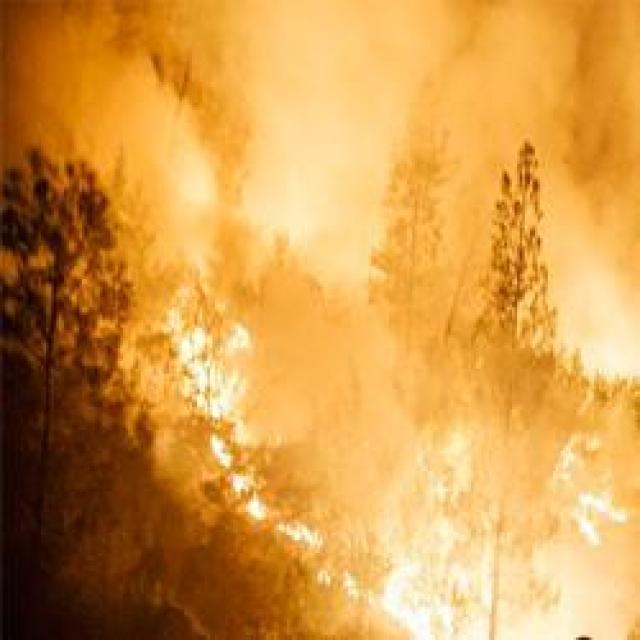Fire: (138, 287, 640, 640)
Smoke: (58, 0, 636, 329)
